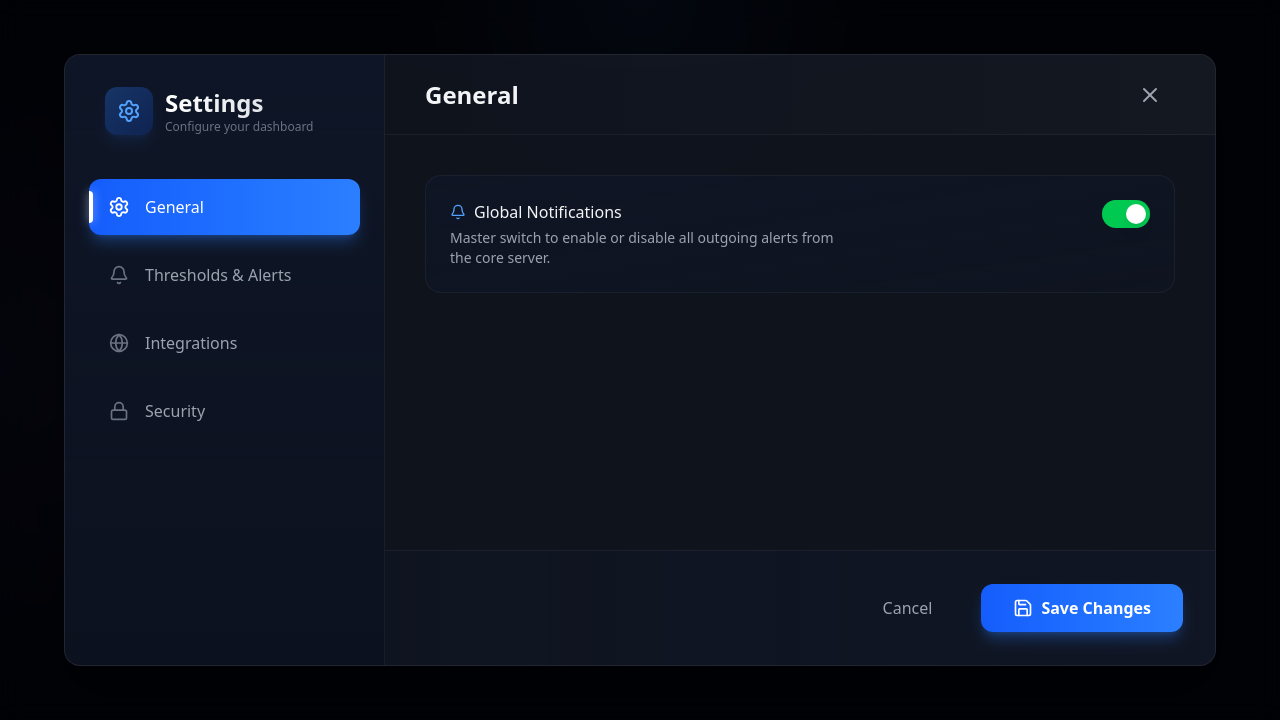
SettingsModal › switches tabs on click
The image size is (1280, 720).
Click the first matching element
Click the text "Thresholds & Alerts". click: (218, 275)
box: [145, 263, 291, 287]
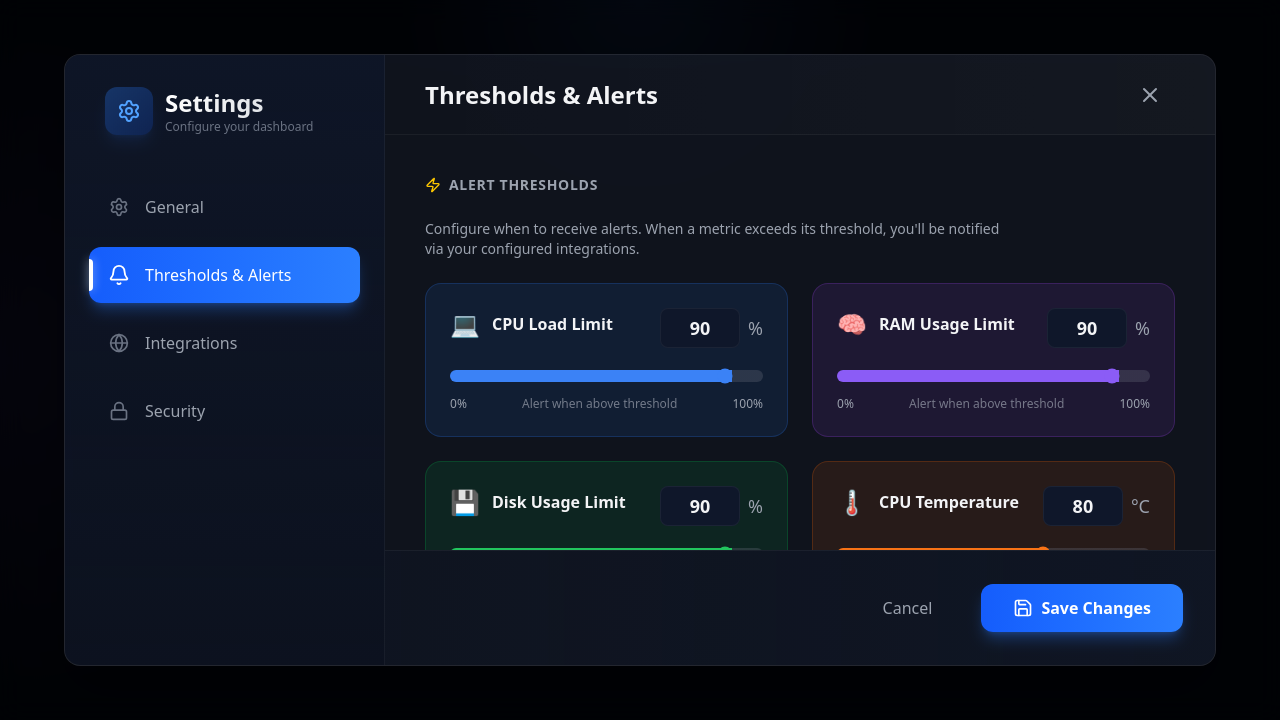
Now the heading "Alert Thresholds" is shown, box [425, 175, 598, 194]
